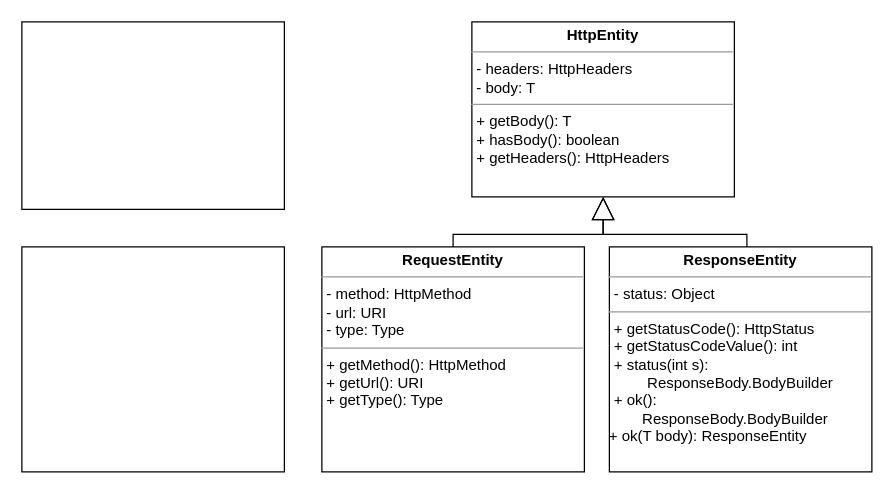
The diagram is 894 pixels wide and 494 high, and some of its shapes have lost their labels. The centre of each missing label's shape, as x and y in pixels:
<<Interface>> Context: point (152, 359)
<<Interface>> Function + call(RequestEntity e, Context c): ResponseEntity: point (152, 115)
